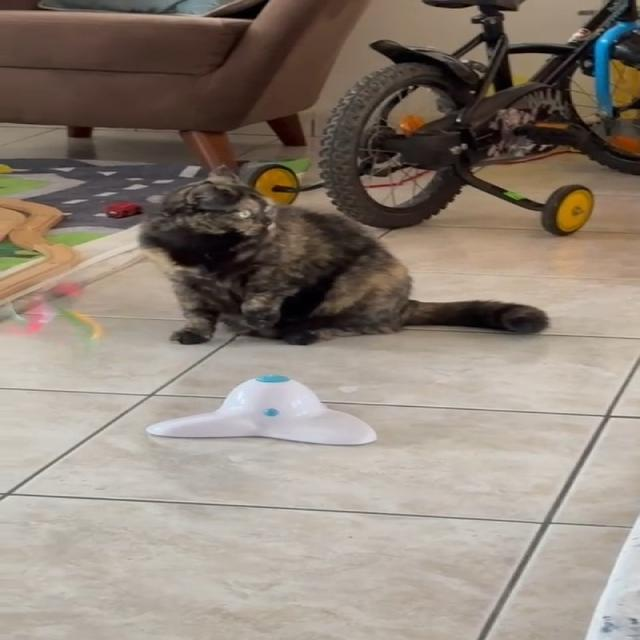authorized: (136, 164, 549, 346)
